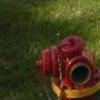Hydrant: (31, 21, 100, 100)
